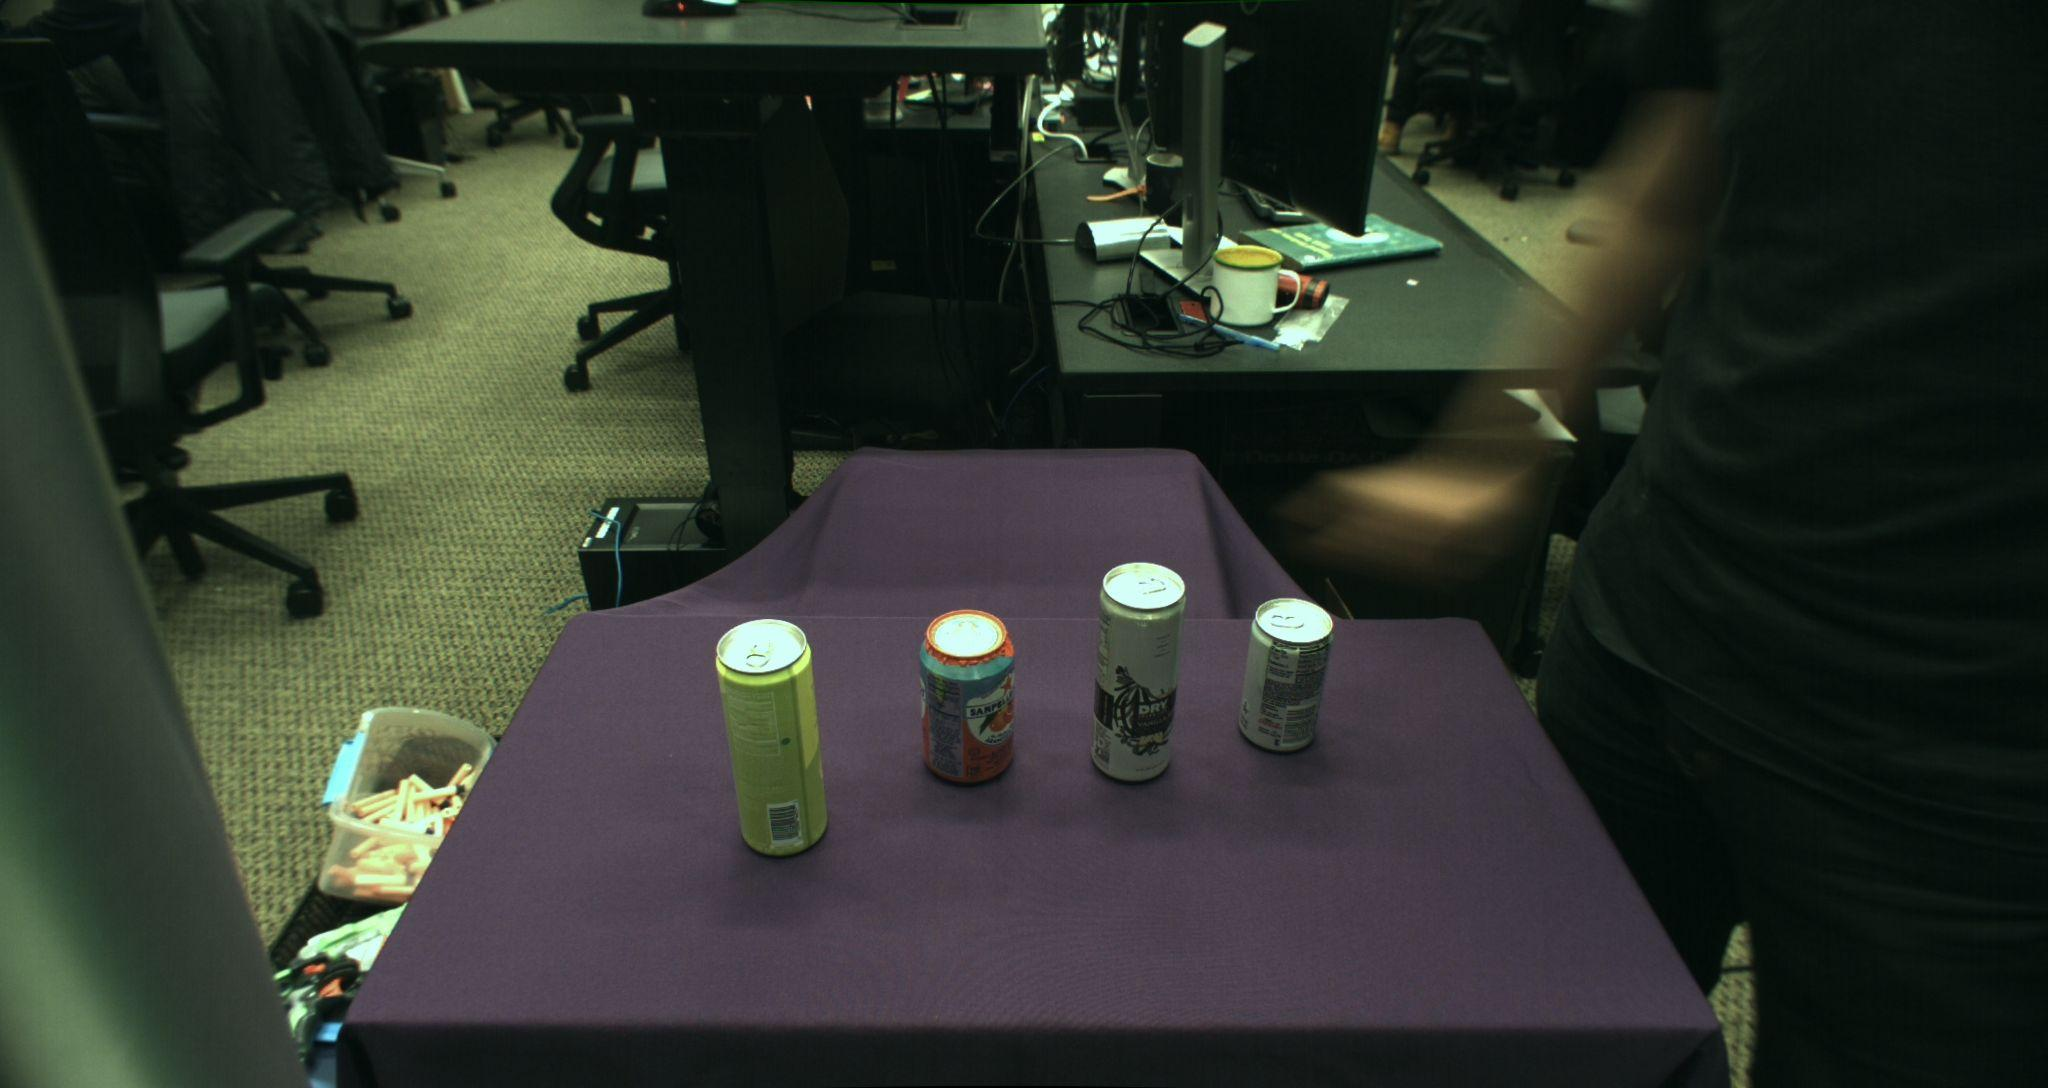can_diet_coke_small: (1238, 598, 1331, 753)
can_dry_sparkling_vanilla_bean: (1090, 562, 1187, 782)
can_izze_fusions_lemon_lime: (717, 619, 828, 855)
can_sanpellegrino_blood_orange: (918, 610, 1017, 786)
